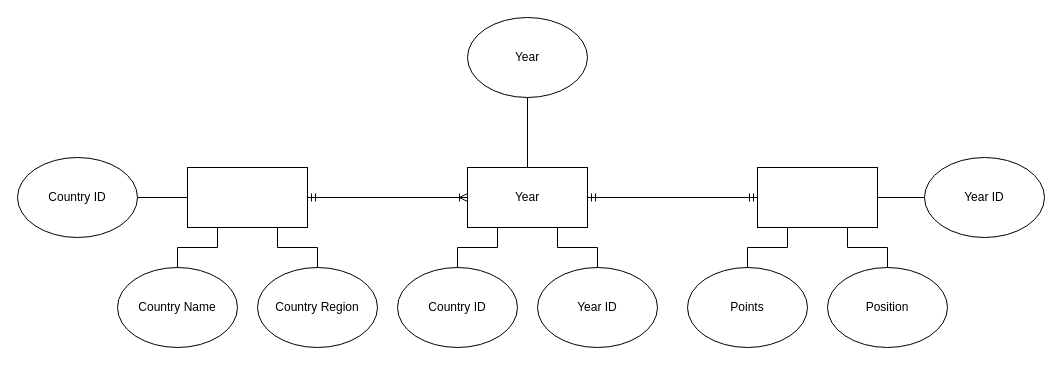
Image size: 1062x365. Some labels were removed from this diagram. The shapes that lost their labels are listed below. From the top down, each one's box as (x1, y1, x2, y2) in pixels, then its label:
(186, 166, 308, 228): Country
(756, 166, 878, 228): Info
